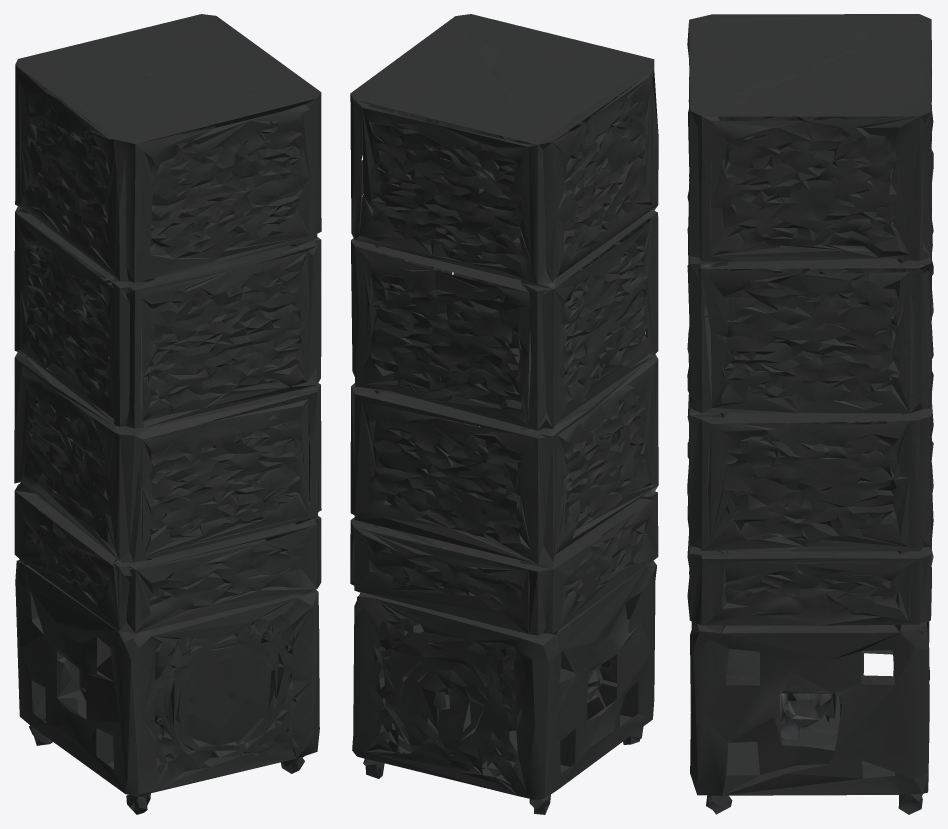
Rendered from djSpeaker-medio.glb.
3 renders of one model, left to right at view 1: azimuth 30°, elevation 25°; view 2: azimuth 150°, elevation 25°; view 3: azimuth 270°, elevation 25°, orthographic. The views are drawn at different scales.
Bounding box in the file's own units: 0.6002 × 1.9 × 0.6002.
Materials: 1 (1 with a texture image).
